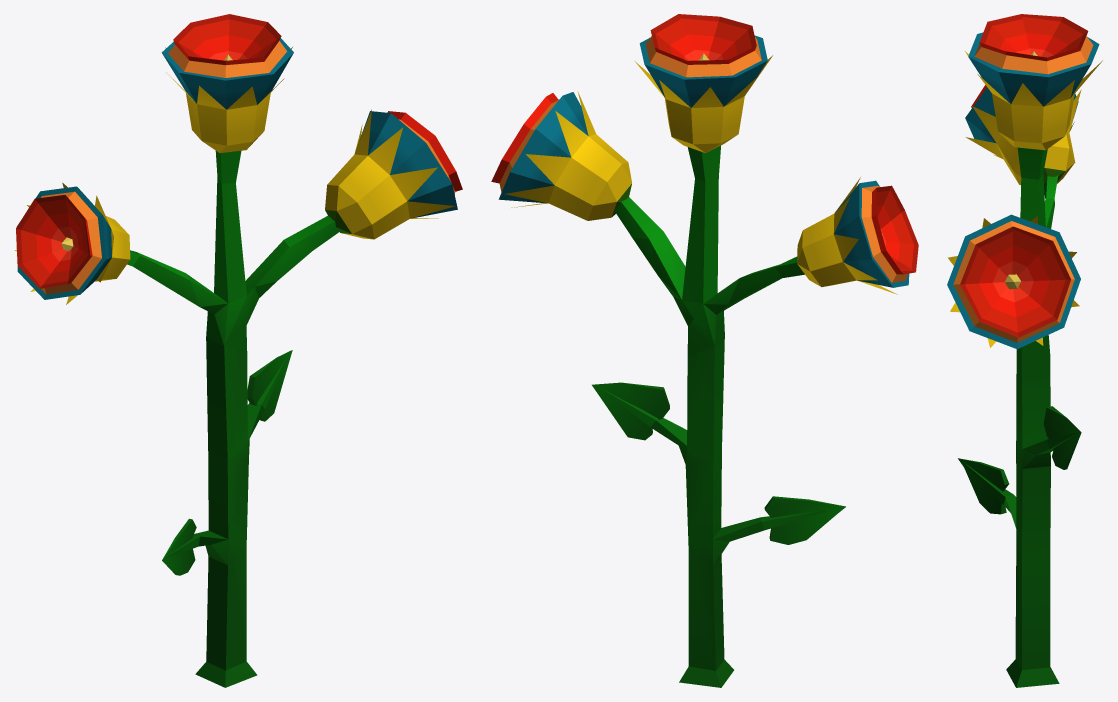
Rendered from egypt_env_flower_02.gltf.
3 renders of one model, left to right at view 1: azimuth 30°, elevation 25°; view 2: azimuth 150°, elevation 25°; view 3: azimuth 270°, elevation 25°, orthographic.
Parts seen in each view (by area): view 1: egypt_env_flower_02_glb; view 2: egypt_env_flower_02_glb; view 3: egypt_env_flower_02_glb.
Part boxes in pixels (<box>): egypt_env_flower_02_glb: <box>14,14,462,687</box>; egypt_env_flower_02_glb: <box>491,14,918,687</box>; egypt_env_flower_02_glb: <box>947,14,1102,687</box>.
Size of what is drawn, in the model's own units: 0.6456 by 0.954 by 0.2101.
1 material, 1 textured.
